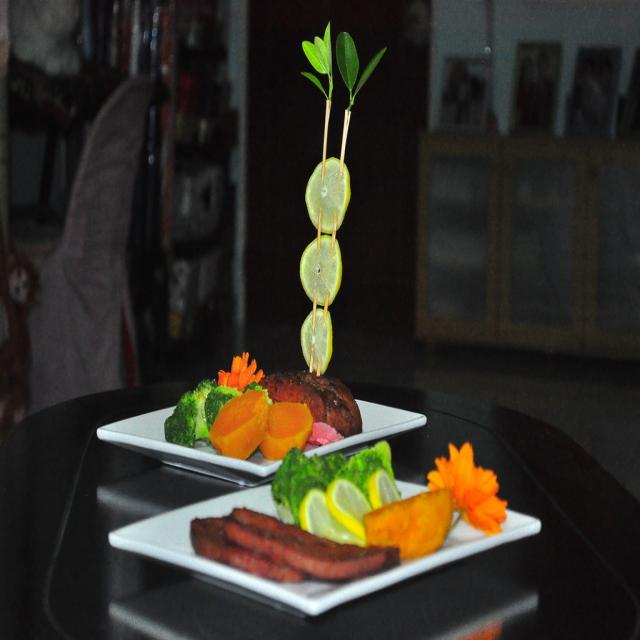Lemon: (302, 156, 354, 232), (300, 235, 344, 305), (296, 308, 330, 377)
